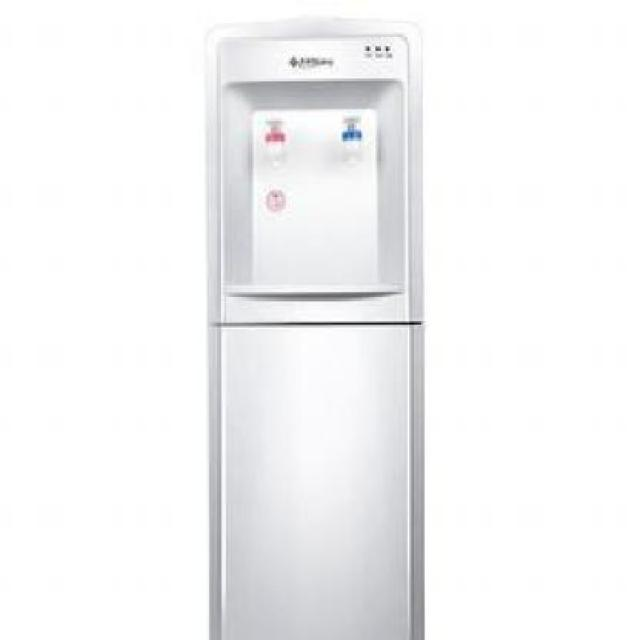cooler: (203, 11, 430, 640)
